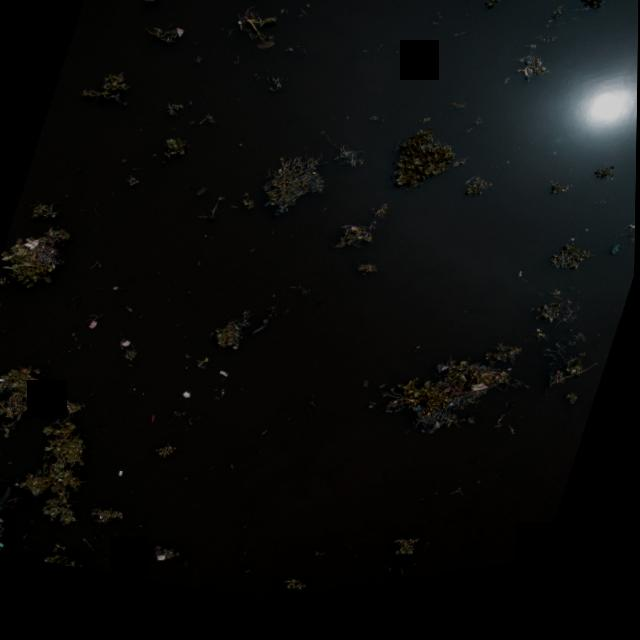plastic: (20, 233, 47, 256), (192, 185, 213, 208), (610, 259, 628, 277), (118, 338, 134, 354), (181, 393, 195, 409), (173, 29, 186, 46), (157, 556, 171, 569), (219, 374, 232, 386), (517, 283, 527, 295), (0, 538, 9, 550), (118, 472, 128, 482), (124, 562, 134, 572), (0, 375, 10, 384), (507, 380, 516, 389), (567, 343, 576, 352), (99, 516, 108, 525), (15, 480, 23, 490), (627, 242, 636, 249), (0, 531, 3, 546)
